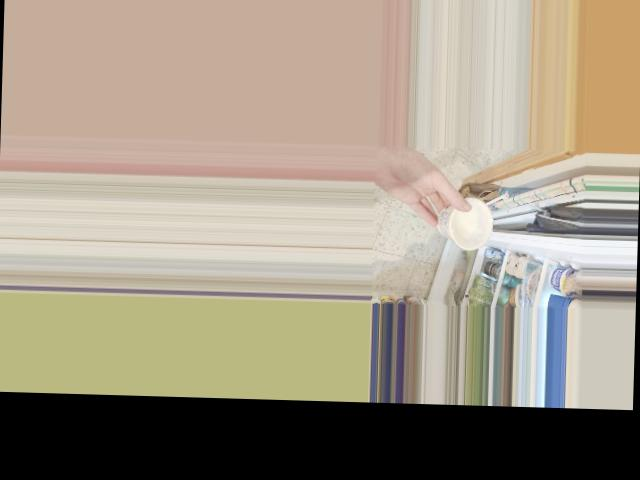cotage: (433, 194, 493, 243)
